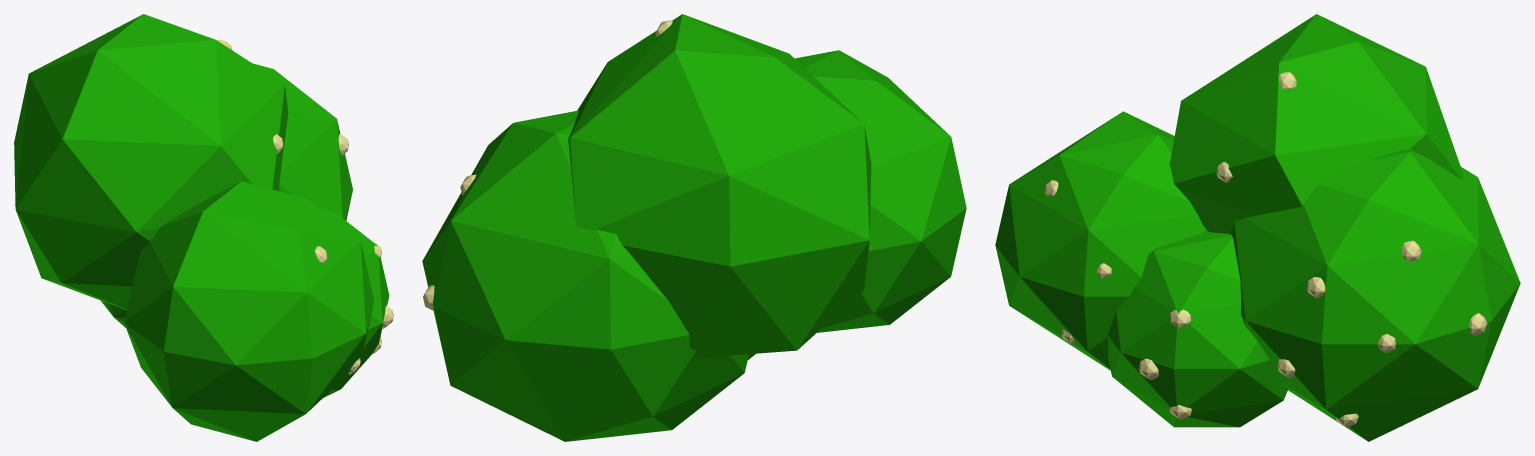
File: Bush2.fbx
3 views of the same model, side by side, from view 1: azimuth 30°, elevation 25°; view 2: azimuth 150°, elevation 25°; view 3: azimuth 270°, elevation 25° (orthographic). The views are drawn at different scales.
Parts seen in each view (by area): view 1: Icosphere.003, Icosphere.002, Icosphere, Icosphere.001; view 2: Icosphere.003, Icosphere, Icosphere.002; view 3: Icosphere, Icosphere.003, Icosphere.002, Icosphere.001.
Boxes of the visible parts, box(x1,y1,x2,y2) form: Icosphere.003: box(14, 14, 288, 309); Icosphere.002: box(124, 181, 374, 441); Icosphere: box(101, 63, 352, 327); Icosphere.001: box(318, 207, 389, 397); Icosphere.003: box(568, 14, 871, 358); Icosphere: box(422, 110, 748, 441); Icosphere.002: box(795, 50, 966, 332); Icosphere: box(1230, 150, 1520, 441); Icosphere.003: box(1170, 14, 1463, 233); Icosphere.002: box(995, 111, 1206, 370); Icosphere.001: box(1108, 231, 1287, 427).
Bounding box in the file's own units: 3921 × 3795 × 5188.
